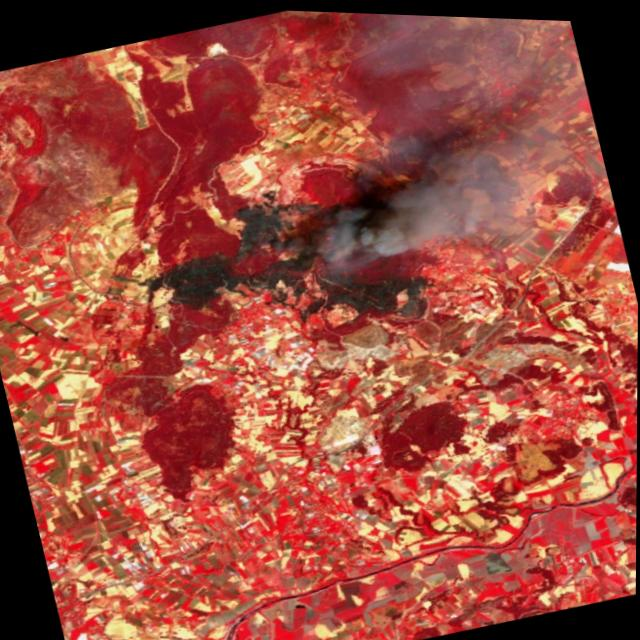fire: (206, 152, 418, 303)
